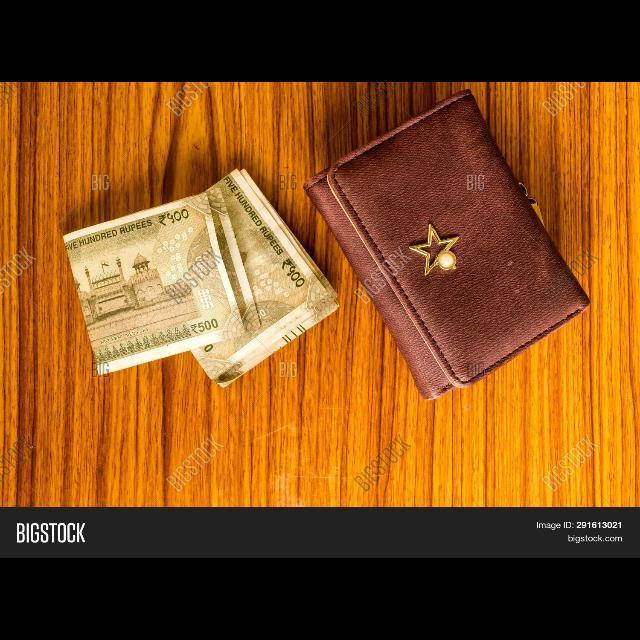wallet: (292, 106, 598, 402)
